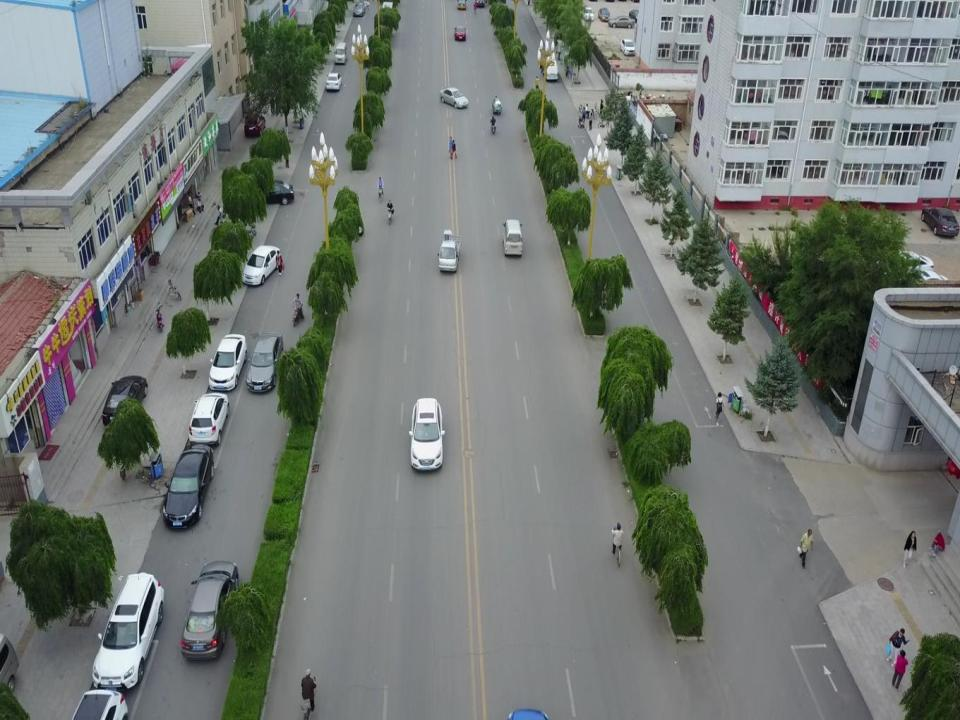car: (92, 566, 164, 692), (180, 559, 238, 661), (162, 443, 214, 528), (408, 397, 444, 472), (102, 374, 148, 426), (208, 334, 248, 392), (246, 332, 284, 392), (188, 393, 230, 447), (68, 688, 128, 720), (242, 245, 282, 286), (921, 207, 959, 236), (252, 179, 294, 205), (440, 88, 468, 109), (244, 114, 266, 137), (608, 16, 635, 28), (326, 72, 342, 92), (619, 40, 637, 56), (353, 2, 366, 17), (454, 26, 466, 42), (598, 7, 610, 22), (629, 10, 644, 22), (582, 8, 594, 22), (456, 0, 467, 10), (475, 0, 487, 8)
truck: (437, 235, 462, 273)
van: (503, 219, 523, 258), (540, 56, 558, 83), (334, 41, 347, 65)
